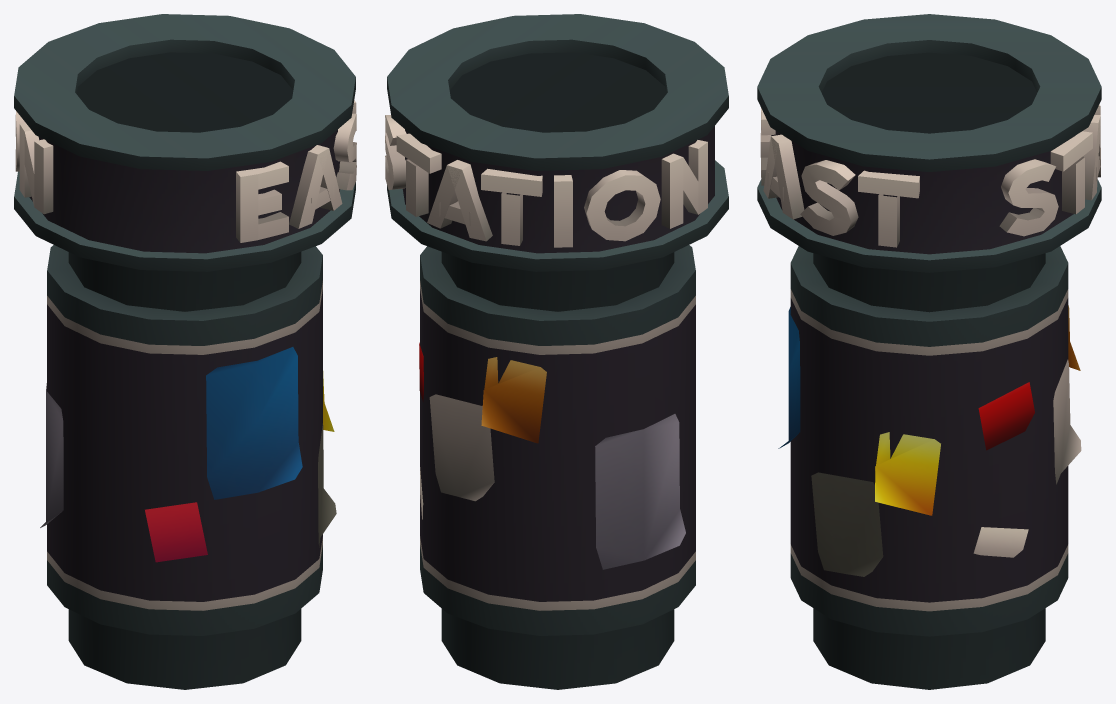
The model's file is Bilboard_1D.fbx.
The picture shows the model from 3 angles, left to right: view 1: azimuth 30°, elevation 25°; view 2: azimuth 150°, elevation 25°; view 3: azimuth 270°, elevation 25°; orthographic projection.
Visible parts, largest first — view 1: Bilboard_1D, Bilboard_1D_Rotating_Text; view 2: Bilboard_1D, Bilboard_1D_Rotating_Text; view 3: Bilboard_1D, Bilboard_1D_Rotating_Text.
Boxes of the visible parts, box(x1,y1,x2,y2) form: Bilboard_1D: box(40, 245, 336, 689); Bilboard_1D_Rotating_Text: box(14, 14, 356, 271); Bilboard_1D: box(419, 245, 695, 689); Bilboard_1D_Rotating_Text: box(385, 14, 728, 271); Bilboard_1D: box(778, 246, 1081, 689); Bilboard_1D_Rotating_Text: box(757, 14, 1101, 272).
Size of the model in its own units: 2.48 by 4.4 by 2.48.
